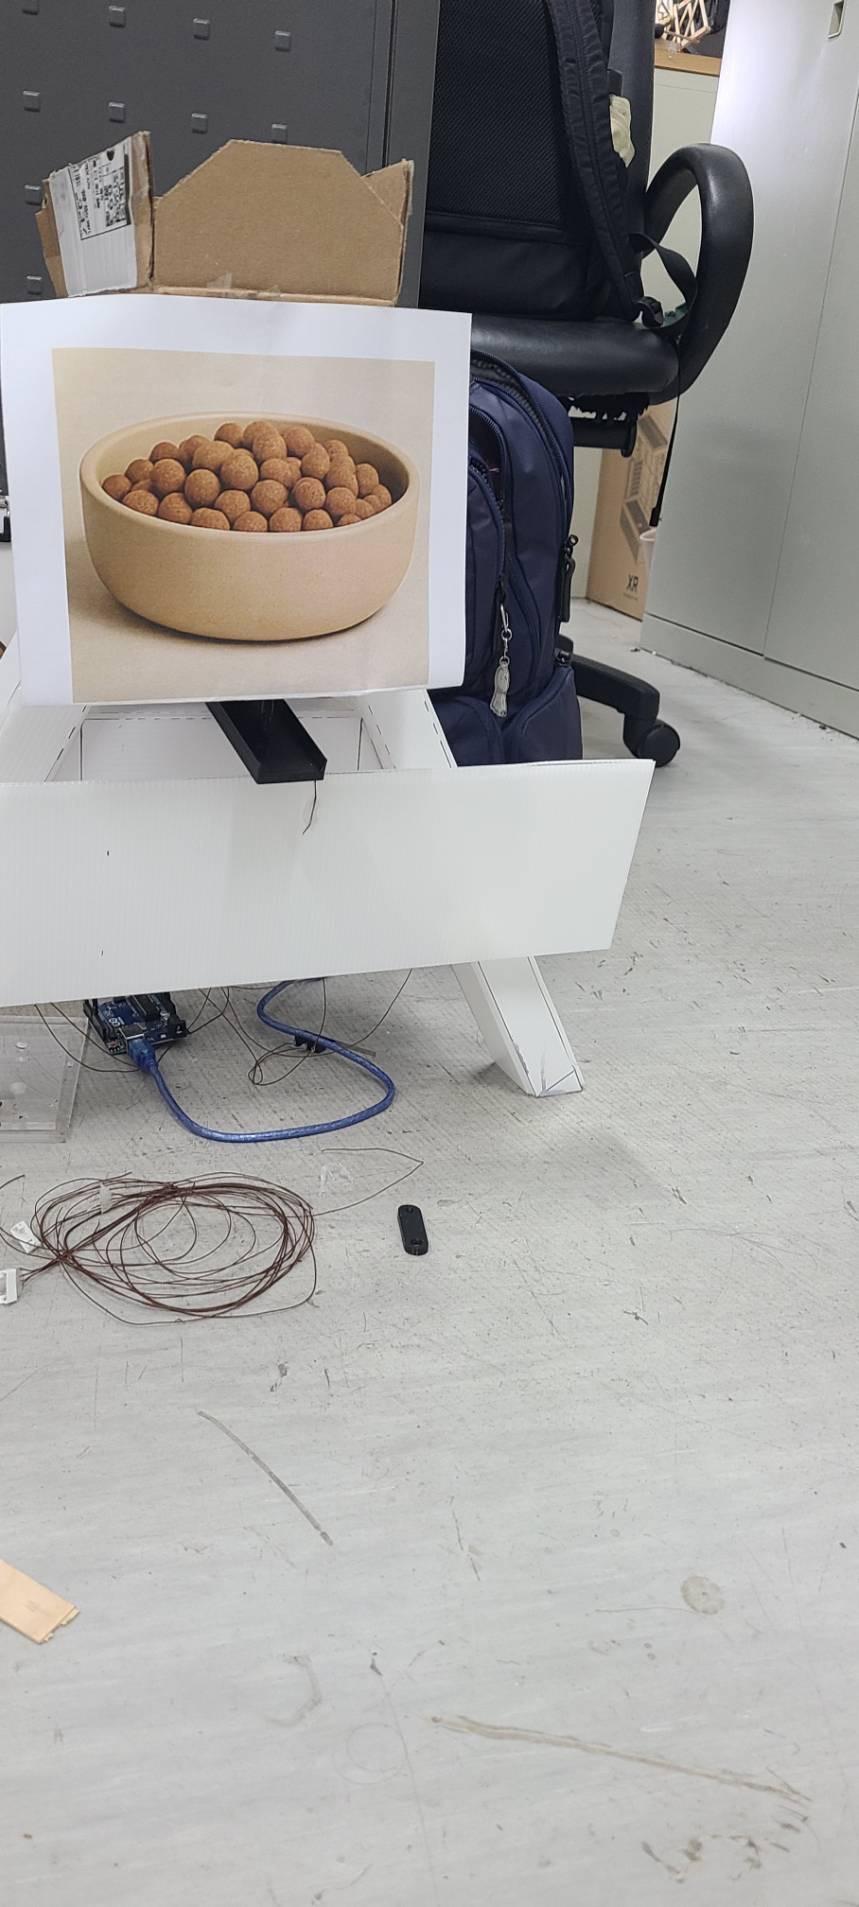machine: (78, 414, 422, 645)
